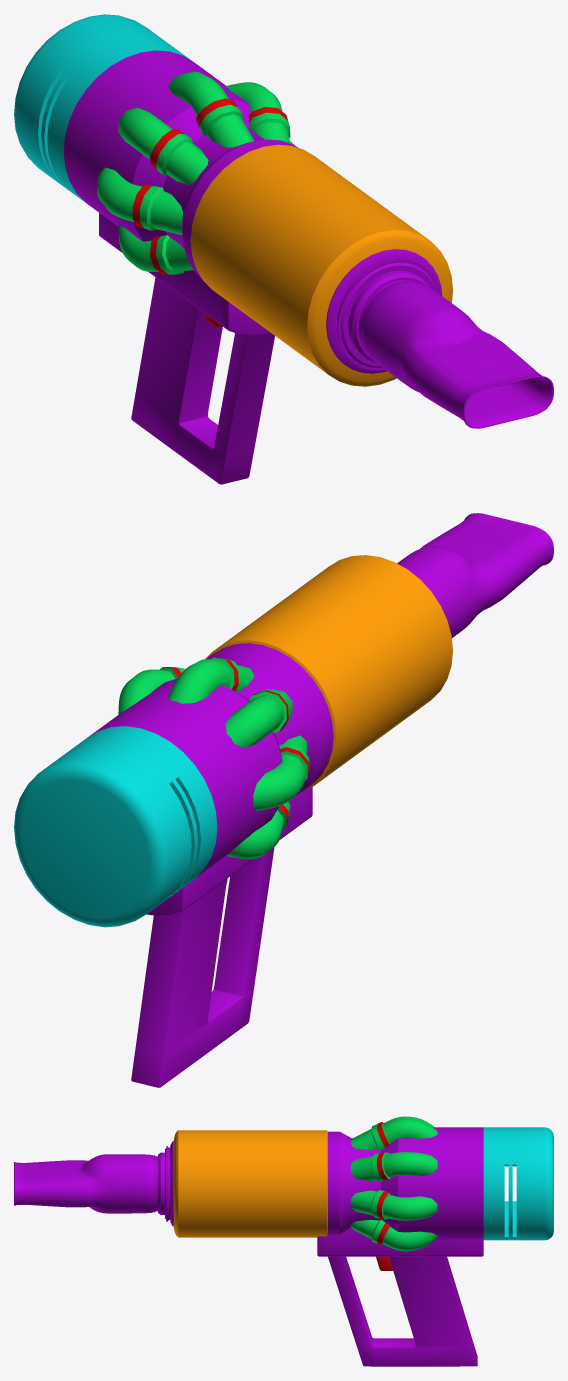
File: Vacuum.fbx
3 renders of one model, top to bottom at view 1: azimuth 30°, elevation 25°; view 2: azimuth 150°, elevation 25°; view 3: azimuth 270°, elevation 25°, orthographic. The views are drawn at different scales.
Parts seen in each view (by area): view 1: Vacuum; view 2: Vacuum; view 3: Vacuum.
Part boxes in pixels (x1=…): Vacuum: x1=14, y1=14, x2=553, y2=484; Vacuum: x1=14, y1=513, x2=553, y2=1087; Vacuum: x1=14, y1=1116, x2=553, y2=1366.
Size of the model in its own units: 0.2372 by 0.4507 by 0.9102.
